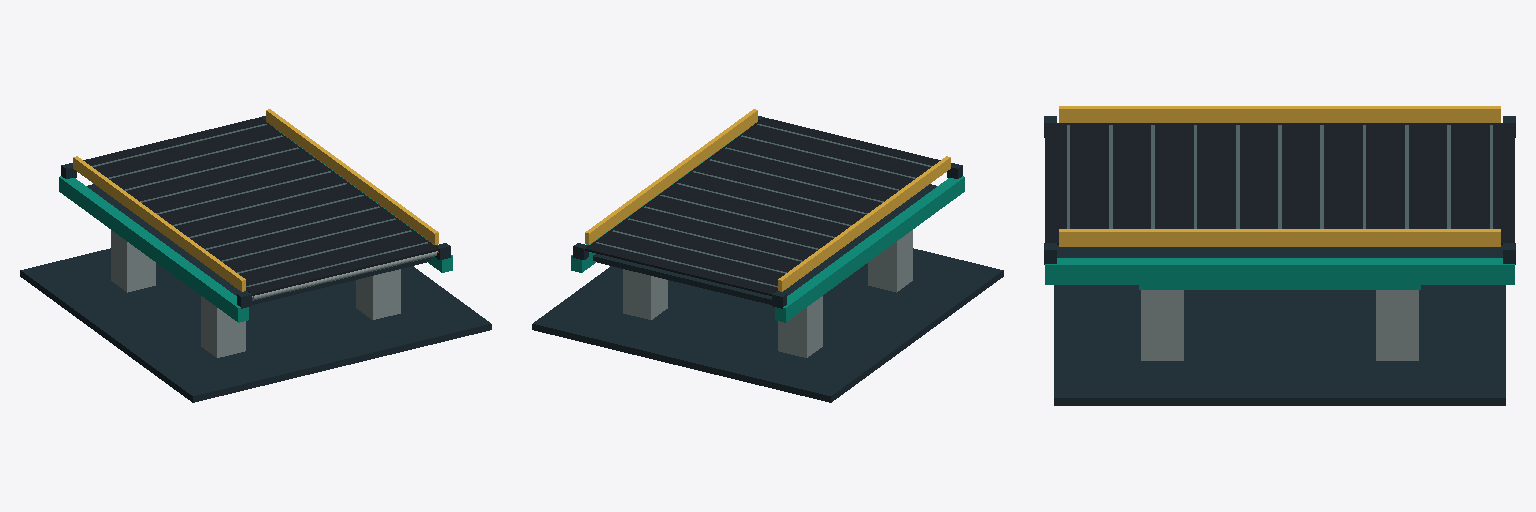
robot.urdf — corner_transfer:
<?xml version='1.0' encoding='utf-8'?>
<robot name="corner_transfer">
  <link name="fixture_world" />
  <link name="corner_base">
    <visual>
      <geometry>
        <mesh filename="package://bellybot_aircraft_environment/models/corner_transfer/meshes/corner_base.dae" />
      </geometry>
    </visual>
    <inertial>
      <origin xyz="0 0 0.095" rpy="0 0 0" />
      <mass value="32" />
      <inertia ixx="2.5538666666666665" iyy="2.5538666666666665" izz="4.9152" ixy="0" ixz="0" iyz="0" />
    </inertial>
    <collision name="spreader">
      <geometry>
        <mesh filename="package://bellybot_aircraft_environment/models/corner_transfer/meshes/collision_corner_base_spreader.stl" />
      </geometry>
    </collision>
    <collision name="guide_0_x-1">
      <geometry>
        <mesh filename="package://bellybot_aircraft_environment/models/corner_transfer/meshes/collision_corner_base_guide_0_x-1.stl" />
      </geometry>
    </collision>
    <collision name="guide_0_y-1">
      <geometry>
        <mesh filename="package://bellybot_aircraft_environment/models/corner_transfer/meshes/collision_corner_base_guide_0_y-1.stl" />
      </geometry>
    </collision>
    <collision name="guide_0_x1">
      <geometry>
        <mesh filename="package://bellybot_aircraft_environment/models/corner_transfer/meshes/collision_corner_base_guide_0_x1.stl" />
      </geometry>
    </collision>
    <collision name="guide_0_y1">
      <geometry>
        <mesh filename="package://bellybot_aircraft_environment/models/corner_transfer/meshes/collision_corner_base_guide_0_y1.stl" />
      </geometry>
    </collision>
    <collision name="guide_1_x-1">
      <geometry>
        <mesh filename="package://bellybot_aircraft_environment/models/corner_transfer/meshes/collision_corner_base_guide_1_x-1.stl" />
      </geometry>
    </collision>
    <collision name="guide_1_y-1">
      <geometry>
        <mesh filename="package://bellybot_aircraft_environment/models/corner_transfer/meshes/collision_corner_base_guide_1_y-1.stl" />
      </geometry>
    </collision>
    <collision name="guide_1_x1">
      <geometry>
        <mesh filename="package://bellybot_aircraft_environment/models/corner_transfer/meshes/collision_corner_base_guide_1_x1.stl" />
      </geometry>
    </collision>
    <collision name="guide_1_y1">
      <geometry>
        <mesh filename="package://bellybot_aircraft_environment/models/corner_transfer/meshes/collision_corner_base_guide_1_y1.stl" />
      </geometry>
    </collision>
    <collision name="guide_2_x-1">
      <geometry>
        <mesh filename="package://bellybot_aircraft_environment/models/corner_transfer/meshes/collision_corner_base_guide_2_x-1.stl" />
      </geometry>
    </collision>
    <collision name="guide_2_y-1">
      <geometry>
        <mesh filename="package://bellybot_aircraft_environment/models/corner_transfer/meshes/collision_corner_base_guide_2_y-1.stl" />
      </geometry>
    </collision>
    <collision name="guide_2_x1">
      <geometry>
        <mesh filename="package://bellybot_aircraft_environment/models/corner_transfer/meshes/collision_corner_base_guide_2_x1.stl" />
      </geometry>
    </collision>
    <collision name="guide_2_y1">
      <geometry>
        <mesh filename="package://bellybot_aircraft_environment/models/corner_transfer/meshes/collision_corner_base_guide_2_y1.stl" />
      </geometry>
    </collision>
    <collision name="guide_3_x-1">
      <geometry>
        <mesh filename="package://bellybot_aircraft_environment/models/corner_transfer/meshes/collision_corner_base_guide_3_x-1.stl" />
      </geometry>
    </collision>
    <collision name="guide_3_y-1">
      <geometry>
        <mesh filename="package://bellybot_aircraft_environment/models/corner_transfer/meshes/collision_corner_base_guide_3_y-1.stl" />
      </geometry>
    </collision>
    <collision name="guide_3_x1">
      <geometry>
        <mesh filename="package://bellybot_aircraft_environment/models/corner_transfer/meshes/collision_corner_base_guide_3_x1.stl" />
      </geometry>
    </collision>
    <collision name="guide_3_y1">
      <geometry>
        <mesh filename="package://bellybot_aircraft_environment/models/corner_transfer/meshes/collision_corner_base_guide_3_y1.stl" />
      </geometry>
    </collision>
  </link>
  <joint name="corner_base_anchor" type="fixed">
    <parent link="fixture_world" />
    <child link="corner_base" />
    <origin xyz="1.3 0 0" rpy="0 0 0" />
  </joint>
  <link name="corner_stage_1">
    <visual>
      <geometry>
        <mesh filename="package://bellybot_aircraft_environment/models/corner_transfer/meshes/corner_stage_1.dae" />
      </geometry>
    </visual>
    <inertial>
      <origin xyz="0 0 0.105" rpy="0 0 0" />
      <mass value="6" />
      <inertia ixx="0.17804199999999995" iyy="0.17804199999999995" izz="0.3271839999999999" ixy="0" ixz="0" iyz="0" />
    </inertial>
    <collision name="guide_0_x-1">
      <geometry>
        <mesh filename="package://bellybot_aircraft_environment/models/corner_transfer/meshes/collision_corner_stage_1_guide_0_x-1.stl" />
      </geometry>
    </collision>
    <collision name="guide_0_y-1">
      <geometry>
        <mesh filename="package://bellybot_aircraft_environment/models/corner_transfer/meshes/collision_corner_stage_1_guide_0_y-1.stl" />
      </geometry>
    </collision>
    <collision name="guide_0_x1">
      <geometry>
        <mesh filename="package://bellybot_aircraft_environment/models/corner_transfer/meshes/collision_corner_stage_1_guide_0_x1.stl" />
      </geometry>
    </collision>
    <collision name="guide_0_y1">
      <geometry>
        <mesh filename="package://bellybot_aircraft_environment/models/corner_transfer/meshes/collision_corner_stage_1_guide_0_y1.stl" />
      </geometry>
    </collision>
    <collision name="guide_1_x-1">
      <geometry>
        <mesh filename="package://bellybot_aircraft_environment/models/corner_transfer/meshes/collision_corner_stage_1_guide_1_x-1.stl" />
      </geometry>
    </collision>
    <collision name="guide_1_y-1">
      <geometry>
        <mesh filename="package://bellybot_aircraft_environment/models/corner_transfer/meshes/collision_corner_stage_1_guide_1_y-1.stl" />
      </geometry>
    </collision>
    <collision name="guide_1_x1">
      <geometry>
        <mesh filename="package://bellybot_aircraft_environment/models/corner_transfer/meshes/collision_corner_stage_1_guide_1_x1.stl" />
      </geometry>
    </collision>
    <collision name="guide_1_y1">
      <geometry>
        <mesh filename="package://bellybot_aircraft_environment/models/corner_transfer/meshes/collision_corner_stage_1_guide_1_y1.stl" />
      </geometry>
    </collision>
    <collision name="guide_2_x-1">
      <geometry>
        <mesh filename="package://bellybot_aircraft_environment/models/corner_transfer/meshes/collision_corner_stage_1_guide_2_x-1.stl" />
      </geometry>
    </collision>
    <collision name="guide_2_y-1">
      <geometry>
        <mesh filename="package://bellybot_aircraft_environment/models/corner_transfer/meshes/collision_corner_stage_1_guide_2_y-1.stl" />
      </geometry>
    </collision>
    <collision name="guide_2_x1">
      <geometry>
        <mesh filename="package://bellybot_aircraft_environment/models/corner_transfer/meshes/collision_corner_stage_1_guide_2_x1.stl" />
      </geometry>
    </collision>
    <collision name="guide_2_y1">
      <geometry>
        <mesh filename="package://bellybot_aircraft_environment/models/corner_transfer/meshes/collision_corner_stage_1_guide_2_y1.stl" />
      </geometry>
    </collision>
    <collision name="guide_3_x-1">
      <geometry>
        <mesh filename="package://bellybot_aircraft_environment/models/corner_transfer/meshes/collision_corner_stage_1_guide_3_x-1.stl" />
      </geometry>
    </collision>
    <collision name="guide_3_y-1">
      <geometry>
        <mesh filename="package://bellybot_aircraft_environment/models/corner_transfer/meshes/collision_corner_stage_1_guide_3_y-1.stl" />
      </geometry>
    </collision>
    <collision name="guide_3_x1">
      <geometry>
        <mesh filename="package://bellybot_aircraft_environment/models/corner_transfer/meshes/collision_corner_stage_1_guide_3_x1.stl" />
      </geometry>
    </collision>
    <collision name="guide_3_y1">
      <geometry>
        <mesh filename="package://bellybot_aircraft_environment/models/corner_transfer/meshes/collision_corner_stage_1_guide_3_y1.stl" />
      </geometry>
    </collision>
  </link>
  <link name="corner_stage_2">
    <visual>
      <geometry>
        <mesh filename="package://bellybot_aircraft_environment/models/corner_transfer/meshes/corner_stage_2.dae" />
      </geometry>
    </visual>
    <inertial>
      <origin xyz="0 0 0.105" rpy="0 0 0" />
      <mass value="6" />
      <inertia ixx="0.166802" iyy="0.166802" izz="0.30470400000000003" ixy="0" ixz="0" iyz="0" />
    </inertial>
    <collision name="guide_0_x-1">
      <geometry>
        <mesh filename="package://bellybot_aircraft_environment/models/corner_transfer/meshes/collision_corner_stage_2_guide_0_x-1.stl" />
      </geometry>
    </collision>
    <collision name="guide_0_y-1">
      <geometry>
        <mesh filename="package://bellybot_aircraft_environment/models/corner_transfer/meshes/collision_corner_stage_2_guide_0_y-1.stl" />
      </geometry>
    </collision>
    <collision name="guide_0_x1">
      <geometry>
        <mesh filename="package://bellybot_aircraft_environment/models/corner_transfer/meshes/collision_corner_stage_2_guide_0_x1.stl" />
      </geometry>
    </collision>
    <collision name="guide_0_y1">
      <geometry>
        <mesh filename="package://bellybot_aircraft_environment/models/corner_transfer/meshes/collision_corner_stage_2_guide_0_y1.stl" />
      </geometry>
    </collision>
    <collision name="guide_1_x-1">
      <geometry>
        <mesh filename="package://bellybot_aircraft_environment/models/corner_transfer/meshes/collision_corner_stage_2_guide_1_x-1.stl" />
      </geometry>
    </collision>
    <collision name="guide_1_y-1">
      <geometry>
        <mesh filename="package://bellybot_aircraft_environment/models/corner_transfer/meshes/collision_corner_stage_2_guide_1_y-1.stl" />
      </geometry>
    </collision>
    <collision name="guide_1_x1">
      <geometry>
        <mesh filename="package://bellybot_aircraft_environment/models/corner_transfer/meshes/collision_corner_stage_2_guide_1_x1.stl" />
      </geometry>
    </collision>
    <collision name="guide_1_y1">
      <geometry>
        <mesh filename="package://bellybot_aircraft_environment/models/corner_transfer/meshes/collision_corner_stage_2_guide_1_y1.stl" />
      </geometry>
    </collision>
    <collision name="guide_2_x-1">
      <geometry>
        <mesh filename="package://bellybot_aircraft_environment/models/corner_transfer/meshes/collision_corner_stage_2_guide_2_x-1.stl" />
      </geometry>
    </collision>
    <collision name="guide_2_y-1">
      <geometry>
        <mesh filename="package://bellybot_aircraft_environment/models/corner_transfer/meshes/collision_corner_stage_2_guide_2_y-1.stl" />
      </geometry>
    </collision>
    <collision name="guide_2_x1">
      <geometry>
        <mesh filename="package://bellybot_aircraft_environment/models/corner_transfer/meshes/collision_corner_stage_2_guide_2_x1.stl" />
      </geometry>
    </collision>
    <collision name="guide_2_y1">
      <geometry>
        <mesh filename="package://bellybot_aircraft_environment/models/corner_transfer/meshes/collision_corner_stage_2_guide_2_y1.stl" />
      </geometry>
    </collision>
    <collision name="guide_3_x-1">
      <geometry>
        <mesh filename="package://bellybot_aircraft_environment/models/corner_transfer/meshes/collision_corner_stage_2_guide_3_x-1.stl" />
      </geometry>
    </collision>
    <collision name="guide_3_y-1">
      <geometry>
        <mesh filename="package://bellybot_aircraft_environment/models/corner_transfer/meshes/collision_corner_stage_2_guide_3_y-1.stl" />
      </geometry>
    </collision>
    <collision name="guide_3_x1">
      <geometry>
        <mesh filename="package://bellybot_aircraft_environment/models/corner_transfer/meshes/collision_corner_stage_2_guide_3_x1.stl" />
      </geometry>
    </collision>
    <collision name="guide_3_y1">
      <geometry>
        <mesh filename="package://bellybot_aircraft_environment/models/corner_transfer/meshes/collision_corner_stage_2_guide_3_y1.stl" />
      </geometry>
    </collision>
  </link>
  <link name="corner_stage_3">
    <visual>
      <geometry>
        <mesh filename="package://bellybot_aircraft_environment/models/corner_transfer/meshes/corner_stage_3.dae" />
      </geometry>
    </visual>
    <inertial>
      <origin xyz="0 0 0.1245" rpy="0 0 0" />
      <mass value="6" />
      <inertia ixx="0.2018405" iyy="0.2018405" izz="0.36000000000000004" ixy="0" ixz="0" iyz="0" />
    </inertial>
    <collision name="guide_0_x-1">
      <geometry>
        <mesh filename="package://bellybot_aircraft_environment/models/corner_transfer/meshes/collision_corner_stage_3_guide_0_x-1.stl" />
      </geometry>
    </collision>
    <collision name="guide_0_y-1">
      <geometry>
        <mesh filename="package://bellybot_aircraft_environment/models/corner_transfer/meshes/collision_corner_stage_3_guide_0_y-1.stl" />
      </geometry>
    </collision>
    <collision name="guide_0_x1">
      <geometry>
        <mesh filename="package://bellybot_aircraft_environment/models/corner_transfer/meshes/collision_corner_stage_3_guide_0_x1.stl" />
      </geometry>
    </collision>
    <collision name="guide_0_y1">
      <geometry>
        <mesh filename="package://bellybot_aircraft_environment/models/corner_transfer/meshes/collision_corner_stage_3_guide_0_y1.stl" />
      </geometry>
    </collision>
    <collision name="guide_1_x-1">
      <geometry>
        <mesh filename="package://bellybot_aircraft_environment/models/corner_transfer/meshes/collision_corner_stage_3_guide_1_x-1.stl" />
      </geometry>
    </collision>
    <collision name="guide_1_y-1">
      <geometry>
        <mesh filename="package://bellybot_aircraft_environment/models/corner_transfer/meshes/collision_corner_stage_3_guide_1_y-1.stl" />
      </geometry>
    </collision>
    <collision name="guide_1_x1">
      <geometry>
        <mesh filename="package://bellybot_aircraft_environment/models/corner_transfer/meshes/collision_corner_stage_3_guide_1_x1.stl" />
      </geometry>
    </collision>
    <collision name="guide_1_y1">
      <geometry>
        <mesh filename="package://bellybot_aircraft_environment/models/corner_transfer/meshes/collision_corner_stage_3_guide_1_y1.stl" />
      </geometry>
    </collision>
    <collision name="guide_2_x-1">
      <geometry>
        <mesh filename="package://bellybot_aircraft_environment/models/corner_transfer/meshes/collision_corner_stage_3_guide_2_x-1.stl" />
      </geometry>
    </collision>
    <collision name="guide_2_y-1">
      <geometry>
        <mesh filename="package://bellybot_aircraft_environment/models/corner_transfer/meshes/collision_corner_stage_3_guide_2_y-1.stl" />
      </geometry>
    </collision>
    <collision name="guide_2_x1">
      <geometry>
        <mesh filename="package://bellybot_aircraft_environment/models/corner_transfer/meshes/collision_corner_stage_3_guide_2_x1.stl" />
      </geometry>
    </collision>
    <collision name="guide_2_y1">
      <geometry>
        <mesh filename="package://bellybot_aircraft_environment/models/corner_transfer/meshes/collision_corner_stage_3_guide_2_y1.stl" />
      </geometry>
    </collision>
    <collision name="guide_3_x-1">
      <geometry>
        <mesh filename="package://bellybot_aircraft_environment/models/corner_transfer/meshes/collision_corner_stage_3_guide_3_x-1.stl" />
      </geometry>
    </collision>
    <collision name="guide_3_y-1">
      <geometry>
        <mesh filename="package://bellybot_aircraft_environment/models/corner_transfer/meshes/collision_corner_stage_3_guide_3_y-1.stl" />
      </geometry>
    </collision>
    <collision name="guide_3_x1">
      <geometry>
        <mesh filename="package://bellybot_aircraft_environment/models/corner_transfer/meshes/collision_corner_stage_3_guide_3_x1.stl" />
      </geometry>
    </collision>
    <collision name="guide_3_y1">
      <geometry>
        <mesh filename="package://bellybot_aircraft_environment/models/corner_transfer/meshes/collision_corner_stage_3_guide_3_y1.stl" />
      </geometry>
    </collision>
    <collision name="crossplate">
      <geometry>
        <mesh filename="package://bellybot_aircraft_environment/models/corner_transfer/meshes/collision_corner_stage_3_crossplate.stl" />
      </geometry>
    </collision>
  </link>
  <link name="corner_rotor">
    <visual>
      <geometry>
        <mesh filename="package://bellybot_aircraft_environment/models/corner_transfer/meshes/corner_rotor.dae" />
      </geometry>
    </visual>
    <inertial>
      <origin xyz="0 0 0.04875" rpy="0 0 0" />
      <mass value="17" />
      <inertia ixx="0.6947053541666667" iyy="1.4425693541666667" izz="2.0968139999999997" ixy="0" ixz="0" iyz="0" />
    </inertial>
    <collision name="bearing_inner">
      <geometry>
        <mesh filename="package://bellybot_aircraft_environment/models/corner_transfer/meshes/collision_corner_rotor_bearing_inner.stl" />
      </geometry>
    </collision>
    <collision name="rotor_support_plate">
      <geometry>
        <mesh filename="package://bellybot_aircraft_environment/models/corner_transfer/meshes/collision_corner_rotor_rotor_support_plate.stl" />
      </geometry>
    </collision>
    <collision name="frame-1">
      <geometry>
        <mesh filename="package://bellybot_aircraft_environment/models/corner_transfer/meshes/collision_corner_rotor_frame-1.stl" />
      </geometry>
    </collision>
    <collision name="guard-1">
      <geometry>
        <mesh filename="package://bellybot_aircraft_environment/models/corner_transfer/meshes/collision_corner_rotor_guard-1.stl" />
      </geometry>
    </collision>
    <collision name="frame1">
      <geometry>
        <mesh filename="package://bellybot_aircraft_environment/models/corner_transfer/meshes/collision_corner_rotor_frame1.stl" />
      </geometry>
    </collision>
    <collision name="guard1">
      <geometry>
        <mesh filename="package://bellybot_aircraft_environment/models/corner_transfer/meshes/collision_corner_rotor_guard1.stl" />
      </geometry>
    </collision>
    <collision name="crossmember-0.38">
      <geometry>
        <mesh filename="package://bellybot_aircraft_environment/models/corner_transfer/meshes/collision_corner_rotor_crossmember-0.38.stl" />
      </geometry>
    </collision>
    <collision name="crossmember0.38">
      <geometry>
        <mesh filename="package://bellybot_aircraft_environment/models/corner_transfer/meshes/collision_corner_rotor_crossmember0.38.stl" />
      </geometry>
    </collision>
  </link>
  <link name="corner_belt">
    <visual>
      <geometry>
        <mesh filename="package://bellybot_aircraft_environment/models/corner_transfer/meshes/corner_belt.dae" />
      </geometry>
    </visual>
    <inertial>
      <origin xyz="0 0 0.0724" rpy="0 0 0" />
      <mass value="1" />
      <inertia ixx="0.030033333333333332" iyy="0.08336666666666666" izz="0.11333333333333333" ixy="0" ixz="0" iyz="0" />
    </inertial>
    <collision name="contact">
      <geometry>
        <mesh filename="package://bellybot_aircraft_environment/models/corner_transfer/meshes/collision_corner_belt_contact.stl" />
      </geometry>
    </collision>
  </link>
  <link name="corner_belt_rear">
    <visual>
      <geometry>
        <mesh filename="package://bellybot_aircraft_environment/models/corner_transfer/meshes/corner_belt_rear.dae" />
      </geometry>
    </visual>
    <inertial>
      <origin xyz="0 0 0" rpy="0 0 0" />
      <mass value="0.5" />
      <inertia ixx="0.018836166666666664" iyy="4.033333333333339e-05" izz="0.018836166666666664" ixy="0" ixz="0" iyz="0" />
    </inertial>
  </link>
  <link name="corner_belt_front">
    <visual>
      <geometry>
        <mesh filename="package://bellybot_aircraft_environment/models/corner_transfer/meshes/corner_belt_front.dae" />
      </geometry>
    </visual>
    <inertial>
      <origin xyz="0 0 0" rpy="0 0 0" />
      <mass value="0.5" />
      <inertia ixx="0.018836166666666664" iyy="4.033333333333339e-05" izz="0.018836166666666664" ixy="0" ixz="0" iyz="0" />
    </inertial>
  </link>
  <joint name="corner_stage_1_joint" type="prismatic">
    <parent link="corner_base" />
    <child link="corner_stage_1" />
    <origin xyz="0 0 0" rpy="0 0 0" />
    <axis xyz="0 0 1" />
    <limit effort="2500" velocity="0.18" lower="0" upper="0.11333333333333334" />
    <dynamics damping=".3" friction="0" />
  </joint>
  <joint name="corner_stage_2_joint" type="prismatic">
    <parent link="corner_stage_1" />
    <child link="corner_stage_2" />
    <origin xyz="0 0 0" rpy="0 0 0" />
    <axis xyz="0 0 1" />
    <limit effort="2500" velocity="0.18" lower="0" upper="0.11333333333333334" />
    <dynamics damping=".3" friction="0" />
  </joint>
  <joint name="corner_stage_3_joint" type="prismatic">
    <parent link="corner_stage_2" />
    <child link="corner_stage_3" />
    <origin xyz="0 0 0" rpy="0 0 0" />
    <axis xyz="0 0 1" />
    <limit effort="2500" velocity="0.18" lower="0" upper="0.11333333333333334" />
    <dynamics damping=".3" friction="0" />
  </joint>
  <joint name="corner_rotor_joint" type="revolute">
    <parent link="corner_stage_3" />
    <child link="corner_rotor" />
    <origin xyz="0 0 0.225" rpy="0 0 1.570796327" />
    <axis xyz="0 0 -1" />
    <limit effort="120" velocity="1.0" lower="0" upper="1.5707963267948966" />
    <dynamics damping=".3" friction="0" />
  </joint>
  <joint name="corner_belt_joint" type="fixed">
    <parent link="corner_rotor" />
    <child link="corner_belt" />
    <origin xyz="0 0 0" rpy="0 0 0" />
  </joint>
  <joint name="corner_belt_rear_joint" type="continuous">
    <parent link="corner_rotor" />
    <child link="corner_belt_rear" />
    <origin xyz="-0.488 0 0.061" rpy="0 0 0" />
    <axis xyz="0 1 0" />
    <limit effort="120" velocity="120" />
    <dynamics damping=".3" friction="0" />
  </joint>
  <joint name="corner_belt_front_joint" type="continuous">
    <parent link="corner_rotor" />
    <child link="corner_belt_front" />
    <origin xyz="0.488 0 0.061" rpy="0 0 0" />
    <axis xyz="0 1 0" />
    <limit effort="120" velocity="120" />
    <dynamics damping=".3" friction="0" />
  </joint>
</robot>

--- What the picture shows (computed from the rendered views, not written in the file) ---
The picture shows the robot from 3 angles, left to right: view 1: azimuth 30°, elevation 25°; view 2: azimuth 150°, elevation 25°; view 3: azimuth 270°, elevation 25°; orthographic projection.
Model corner_transfer with 9 links and 8 joints (1 revolute, 2 continuous, 3 prismatic, 2 fixed), rooted at fixture_world, posed all joints at 0.
Links seen in each view (by area): view 1: corner_base, corner_belt, corner_rotor, corner_belt_rear; view 2: corner_base, corner_belt, corner_rotor; view 3: corner_base, corner_belt, corner_rotor, corner_stage_3.
Boxes of the visible links, x1,y1,x2,y2 form: corner_base: [20, 230, 491, 402]; corner_belt: [83, 117, 438, 295]; corner_rotor: [59, 109, 452, 322]; corner_belt_rear: [252, 251, 438, 300]; corner_base: [532, 230, 1003, 402]; corner_belt: [585, 117, 940, 295]; corner_rotor: [571, 109, 964, 322]; corner_base: [1054, 245, 1505, 405]; corner_belt: [1045, 123, 1514, 244]; corner_rotor: [1044, 106, 1515, 284]; corner_stage_3: [1139, 285, 1420, 289].
Bounding box of the posed robot: 0.96 × 1 × 0.3335 m (x, y, z).
Meshes: 8 distinct files referenced, 7 mesh visuals loaded (7 Collada DAE); not drawn: 1 (reference not matched to a file when rendering).
